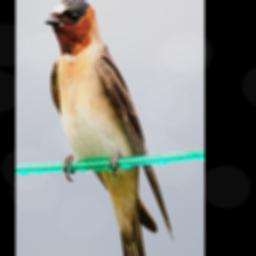Swallow: (44, 0, 174, 256)
